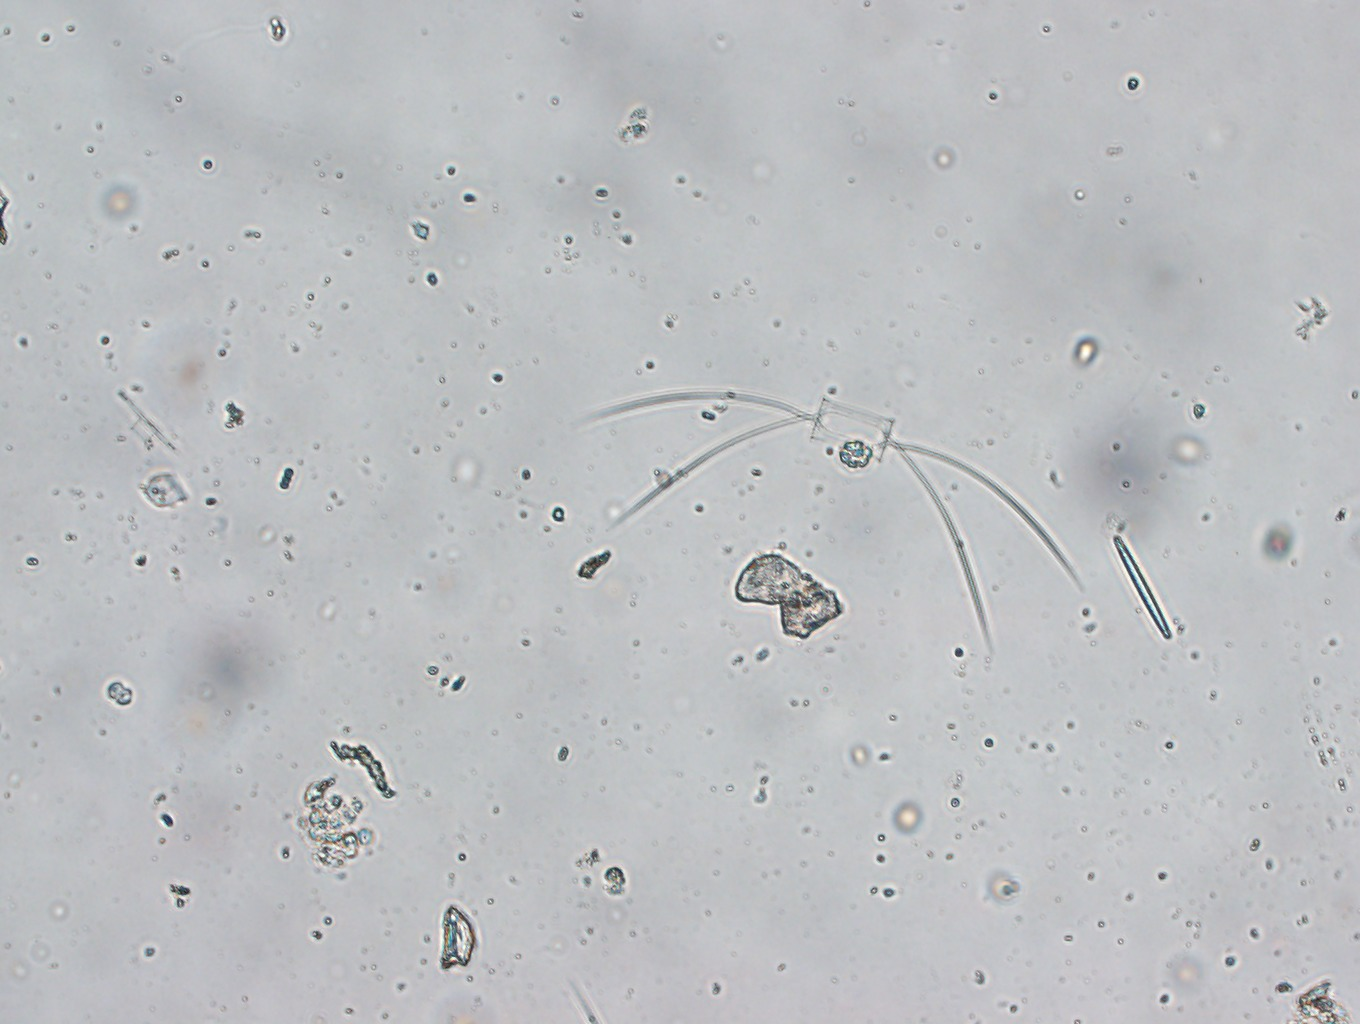chaetoceros: (567, 379, 1071, 655)
